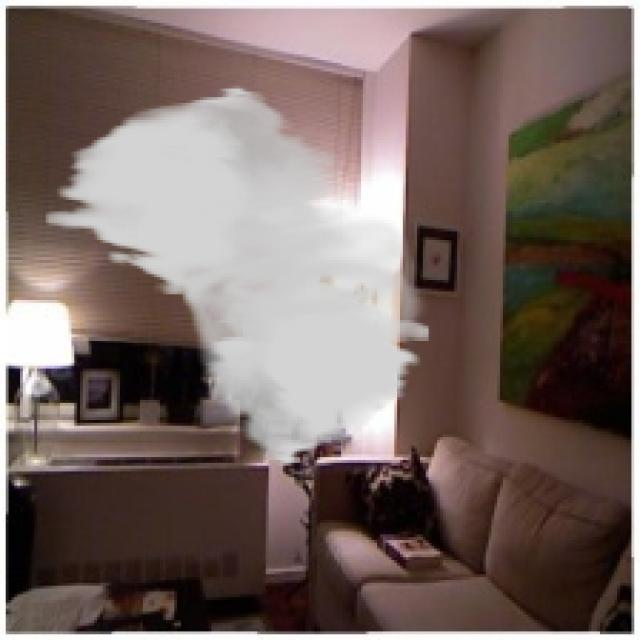smoke: (46, 86, 431, 468)
